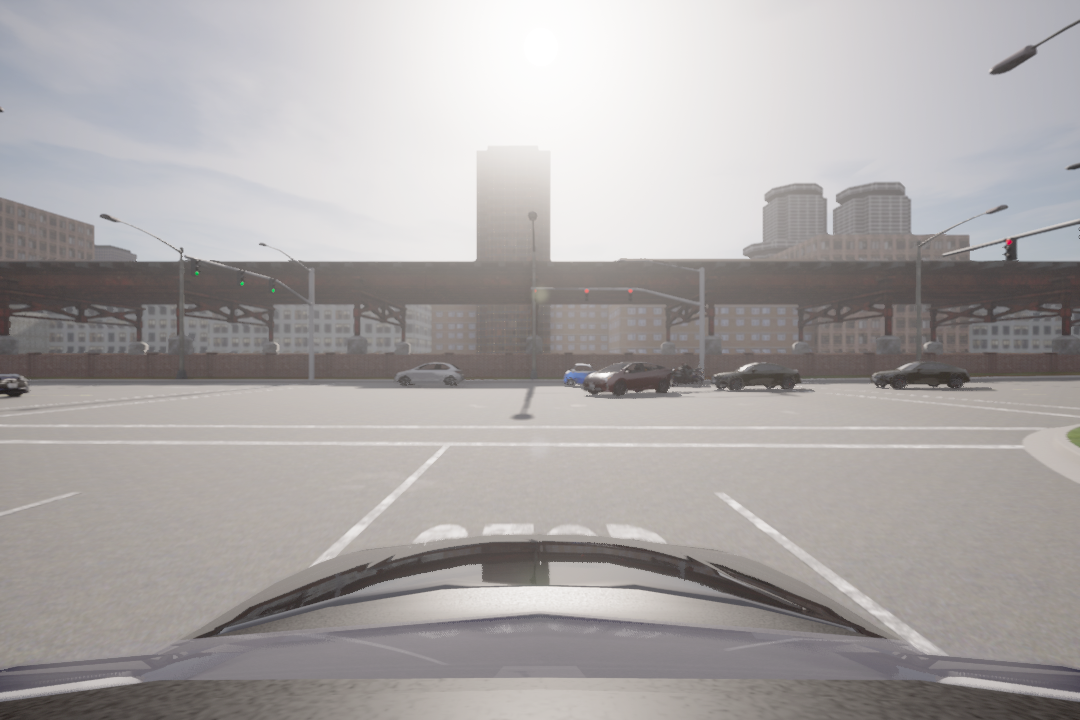TrafficLight: (1000, 236, 1023, 264), (187, 256, 201, 278), (235, 266, 247, 289), (264, 274, 276, 295), (581, 285, 591, 302), (625, 287, 635, 303)
